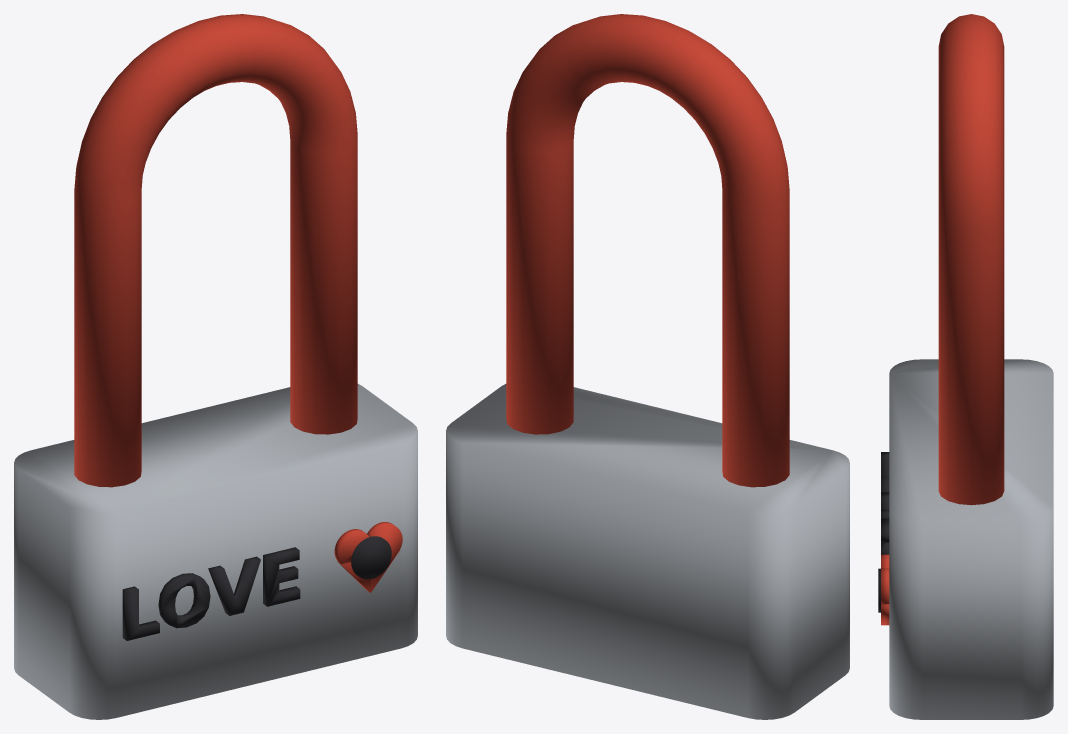
The model's file is lock.glb.
3 views of the same model, side by side, from view 1: azimuth 30°, elevation 25°; view 2: azimuth 150°, elevation 25°; view 3: azimuth 270°, elevation 25° (orthographic). The views are drawn at different scales.
Parts seen in each view (by area): view 1: part0, part1, part2, part3; view 2: part0, part1; view 3: part0, part1, part2, part3.
Boxes of the visible parts, left/top/right/bottom form: part0: left=14, top=384, right=417, bottom=719; part1: left=74, top=14, right=357, bottom=487; part2: left=122, top=533, right=391, bottom=640; part3: left=334, top=522, right=402, bottom=592; part0: left=446, top=384, right=849, bottom=719; part1: left=506, top=14, right=789, bottom=487; part0: left=889, top=359, right=1053, bottom=719; part1: left=938, top=14, right=1004, bottom=505; part2: left=878, top=452, right=889, bottom=612; part3: left=881, top=554, right=889, bottom=625.
Size of the model in its own units: 0.5695 by 1 by 0.2604.
